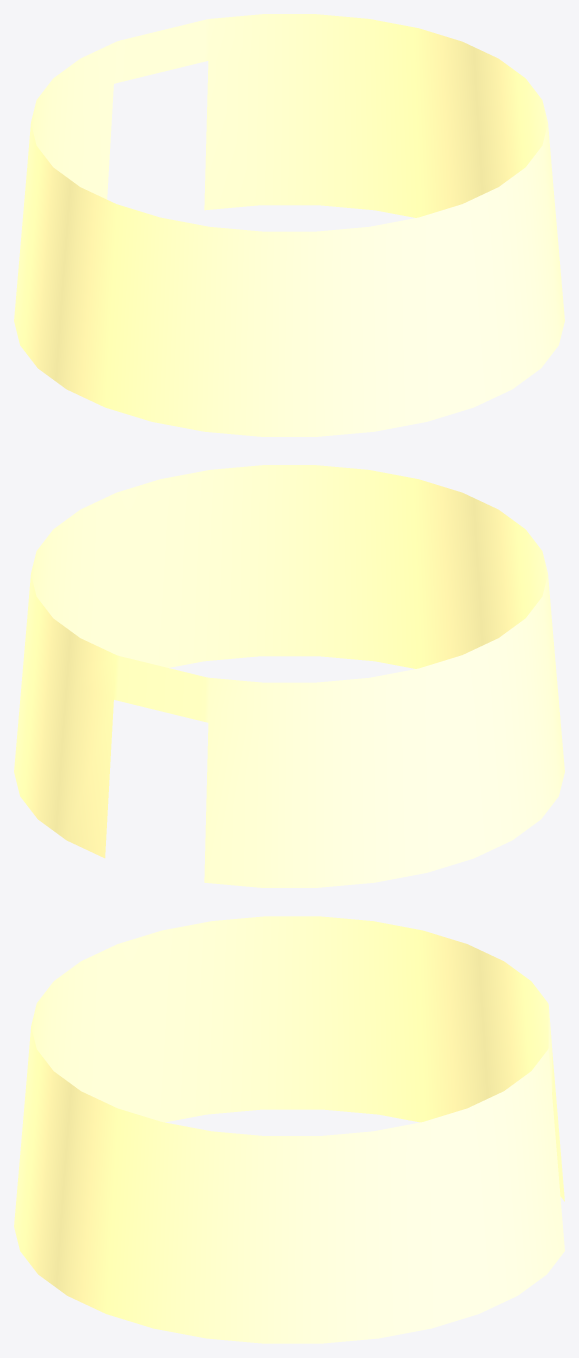
File: wall5.glb
The picture shows the model from 3 angles, top to bottom: view 1: azimuth 30°, elevation 25°; view 2: azimuth 150°, elevation 25°; view 3: azimuth 270°, elevation 25°; orthographic projection.
Visible parts, largest first — view 1: wall5; view 2: wall5; view 3: wall5.
Part boxes in pixels (x1,y1,x2,y2): wall5: [14, 14, 564, 436]; wall5: [14, 465, 564, 887]; wall5: [14, 916, 564, 1343].
Bounding box in the file's own units: 20.09 × 8.02 × 19.98.
